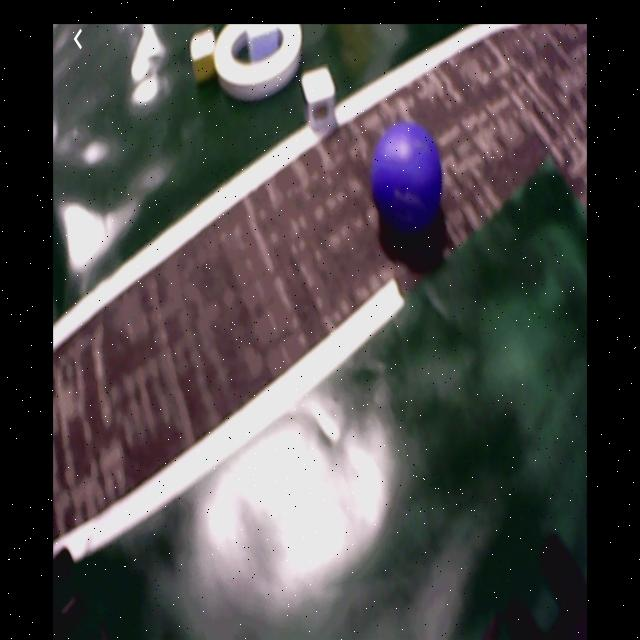ball: (372, 124, 442, 233)
